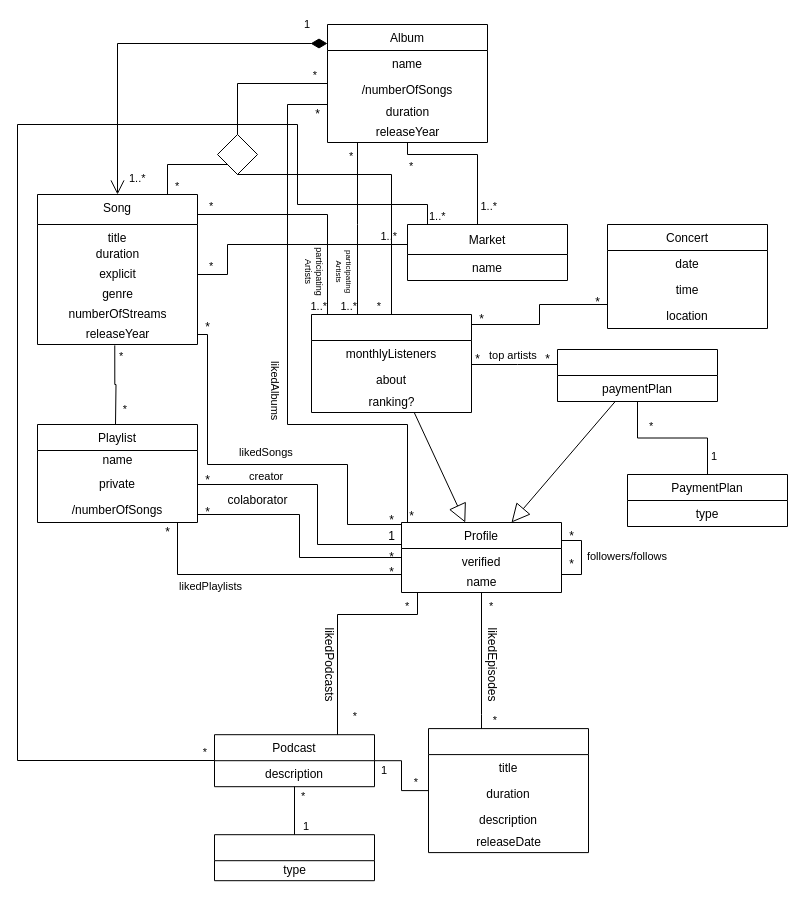
The diagram is 805 pixels wide and 898 high, and some of its shapes have lost their labels. Here are the shapes that lost their labels. From the top down, the box of each, then its label:
(310, 314, 472, 412): Artist
(556, 348, 718, 402): User
(428, 728, 588, 853): PodcastEpisode
(214, 834, 374, 881): PodcastGenre
